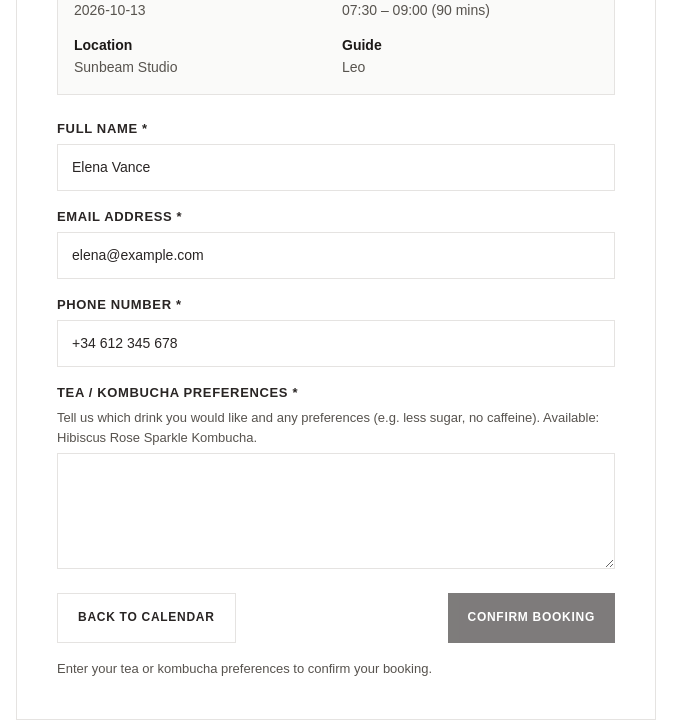
Test: ReservationForm › shows the backend message when the notes are rejected
(page scrolled)
Type "Tea" into the text box with id "reservation-notes". click: point(336, 511)
box: [57,453,615,569]
(page scrolled)
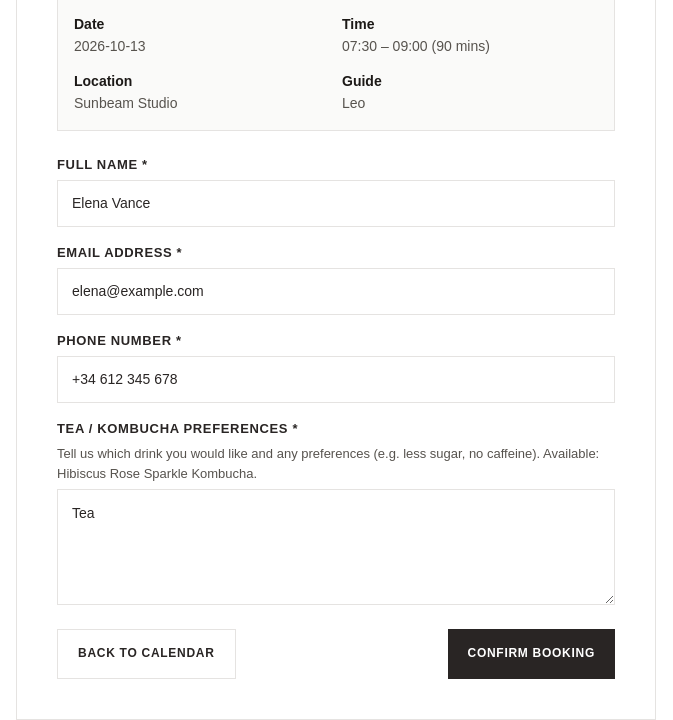
Submit the form
(page scrolled)
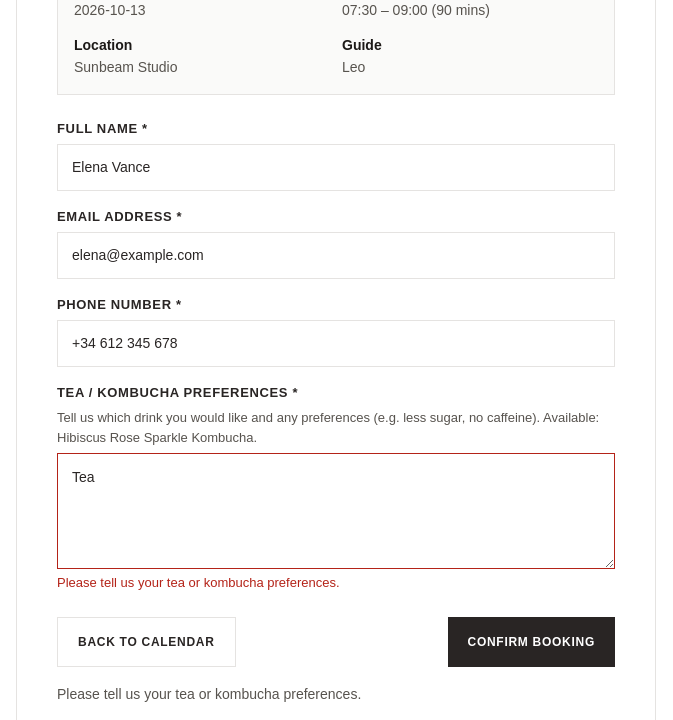
Check: the message with id "reservation-notes-error" reads "Please tell us your tea or kombucha preferences.", box [57,575,340,590]
